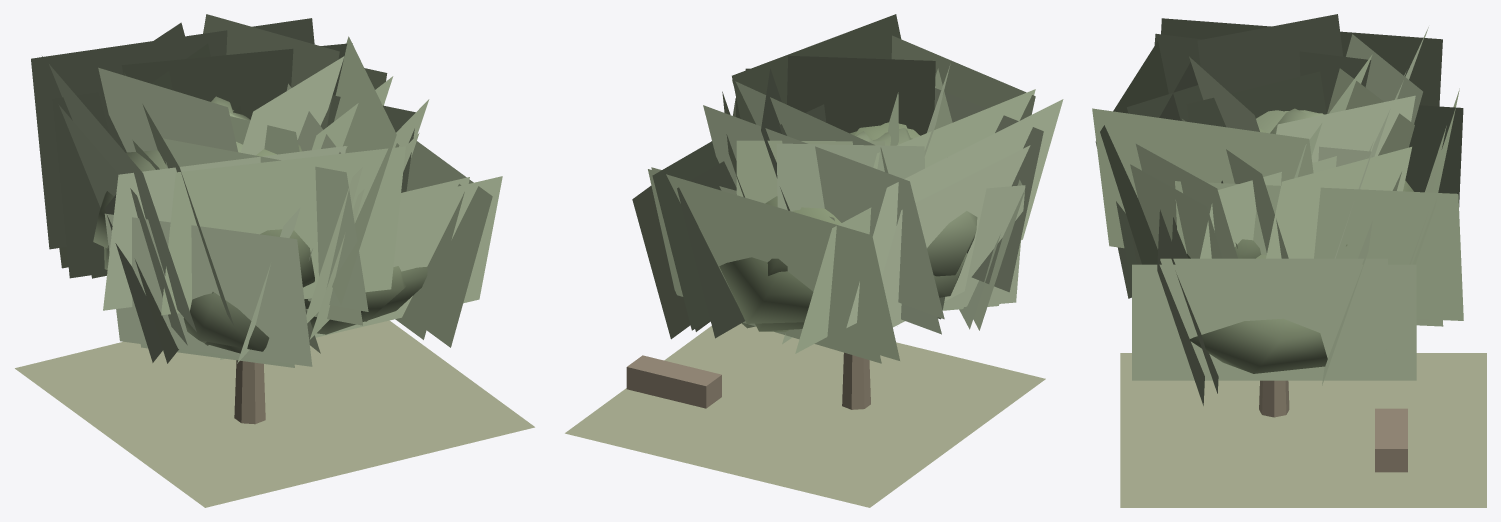
3 renders of one model, left to right at view 1: azimuth 30°, elevation 25°; view 2: azimuth 150°, elevation 25°; view 3: azimuth 270°, elevation 25°, orthographic. The views are drawn at different scales.
Visible parts, largest first — view 1: Near, Mid, Far; view 2: Near, Mid, Far; view 3: Near, Mid.
Part boxes in pixels (x1,y1,x2,y2): Near: (15, 14, 534, 507); Mid: (31, 18, 502, 366); Far: (212, 266, 406, 321); Near: (565, 14, 1045, 507); Mid: (632, 68, 1063, 360); Far: (765, 196, 841, 275); Near: (1092, 14, 1486, 507); Mid: (1095, 18, 1463, 405).
Size of the model in its own units: 1.13 by 1.03 by 1.08.
